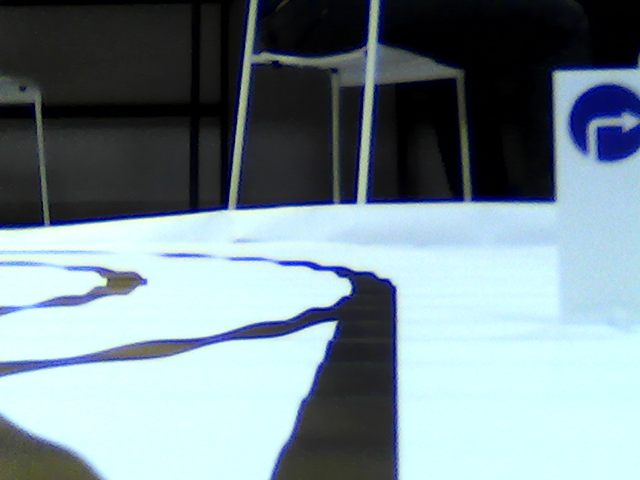Right: (571, 80, 640, 161)
